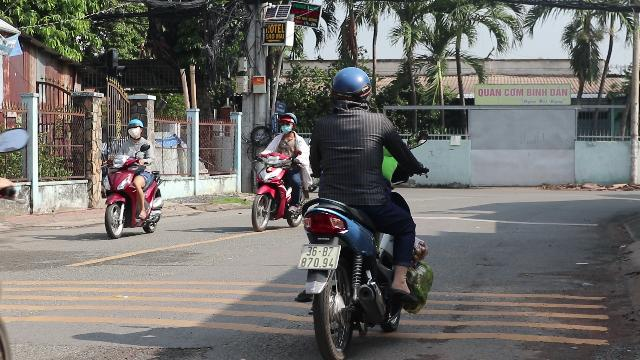helmet: (328, 65, 372, 111), (126, 118, 144, 138), (278, 112, 296, 132)
licenseplate: (299, 246, 339, 268)
motorcyclist: (290, 64, 434, 354), (100, 117, 164, 239), (248, 110, 308, 230)
